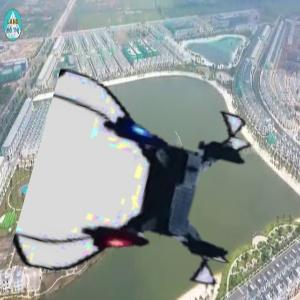drone: (33, 78, 254, 299)
